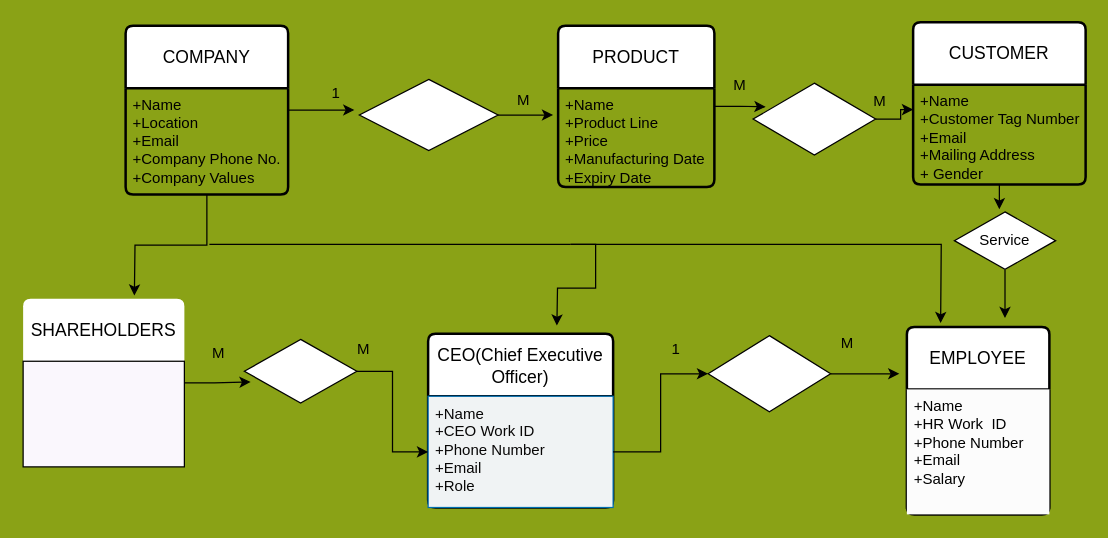
Some shapes in this 1108 by 538 pixel diagram are drawn without their labels. The shapes that lost their labels are listed below. From the top down, each one's centre as x and y in pixels, then its label:
the point at 428,114: Manufacturing
the point at 814,118: Purchase
the point at 300,370: Profit
the point at 769,373: Employment
the point at 103,413: +Name +Stakeholder ID +Phone +Email +Shareholding
